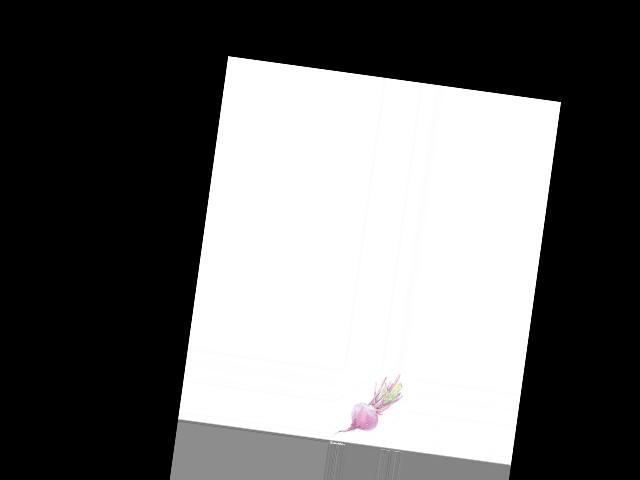beet: (332, 365, 406, 445)
